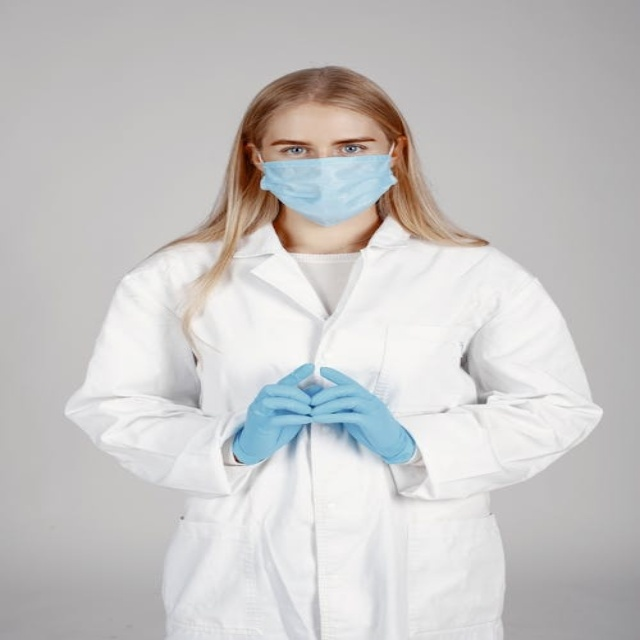Guantes: (306, 366, 418, 465), (233, 365, 322, 466)
Mascara: (257, 144, 398, 225)
Sin_gafas: (268, 141, 379, 159)
